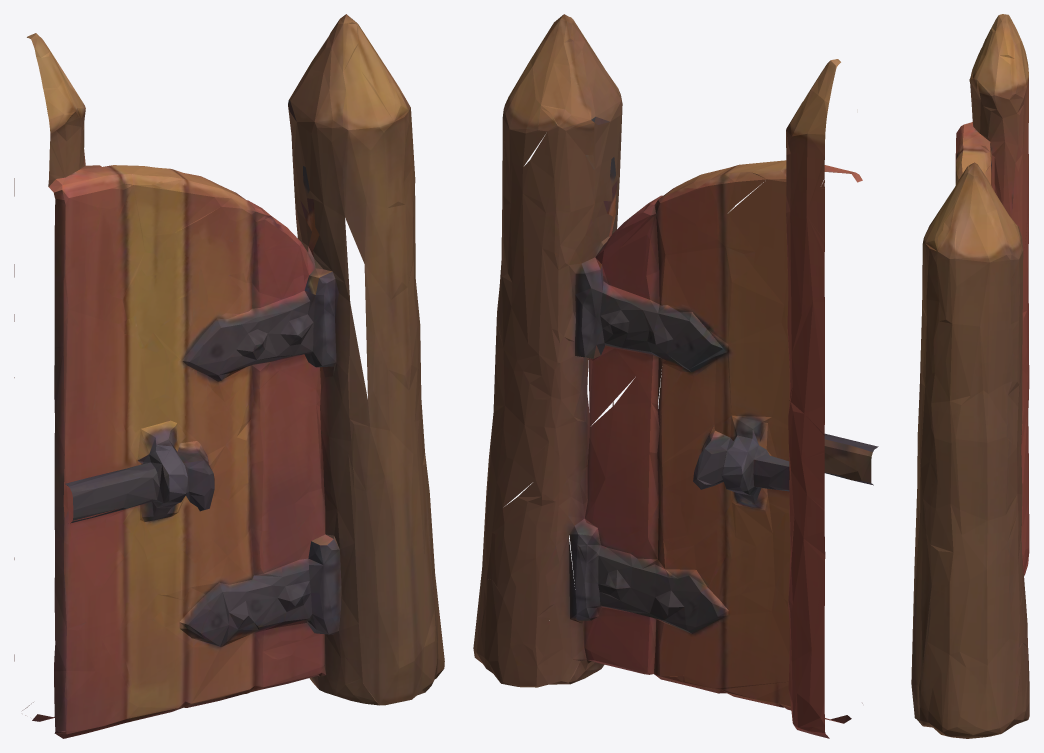
Rendered from gate_archive_r.glb.
3 views of the same model, side by side, from view 1: azimuth 30°, elevation 25°; view 2: azimuth 150°, elevation 25°; view 3: azimuth 270°, elevation 25° (orthographic). The views are drawn at different scales.
Parts seen in each view (by area): view 1: geometry_0; view 2: geometry_0; view 3: geometry_0.
Part boxes in pixels (x1,y1,x2,y2): geometry_0: [14, 14, 444, 738]; geometry_0: [473, 14, 878, 738]; geometry_0: [911, 14, 1029, 738].
Size of the model in its own units: 0.9999 by 1.76 by 0.3271.
Materials: 1 (1 with a texture image).
